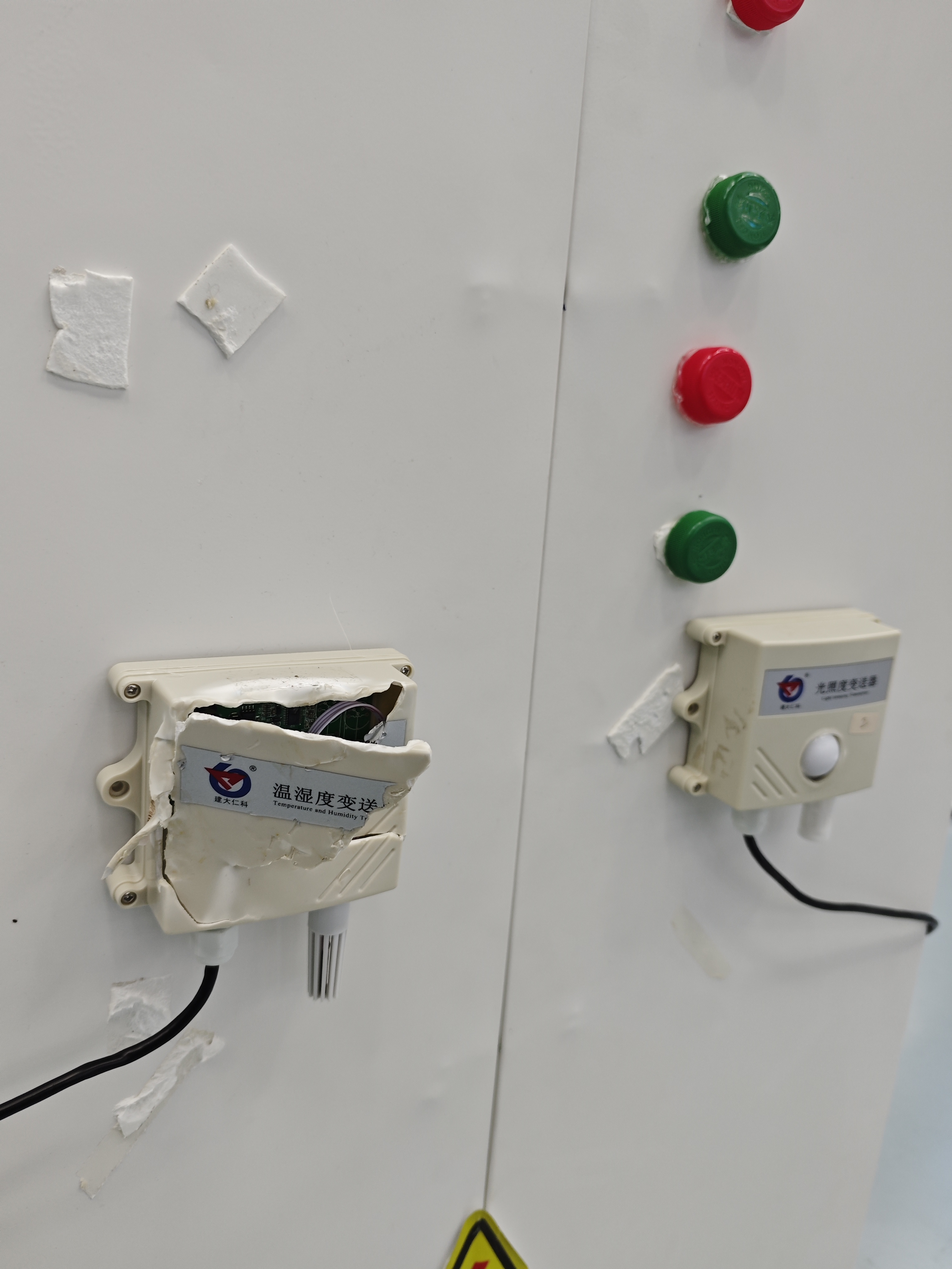red_warning: (651, 318, 775, 440)
sensor_damage: (46, 615, 546, 1054)
